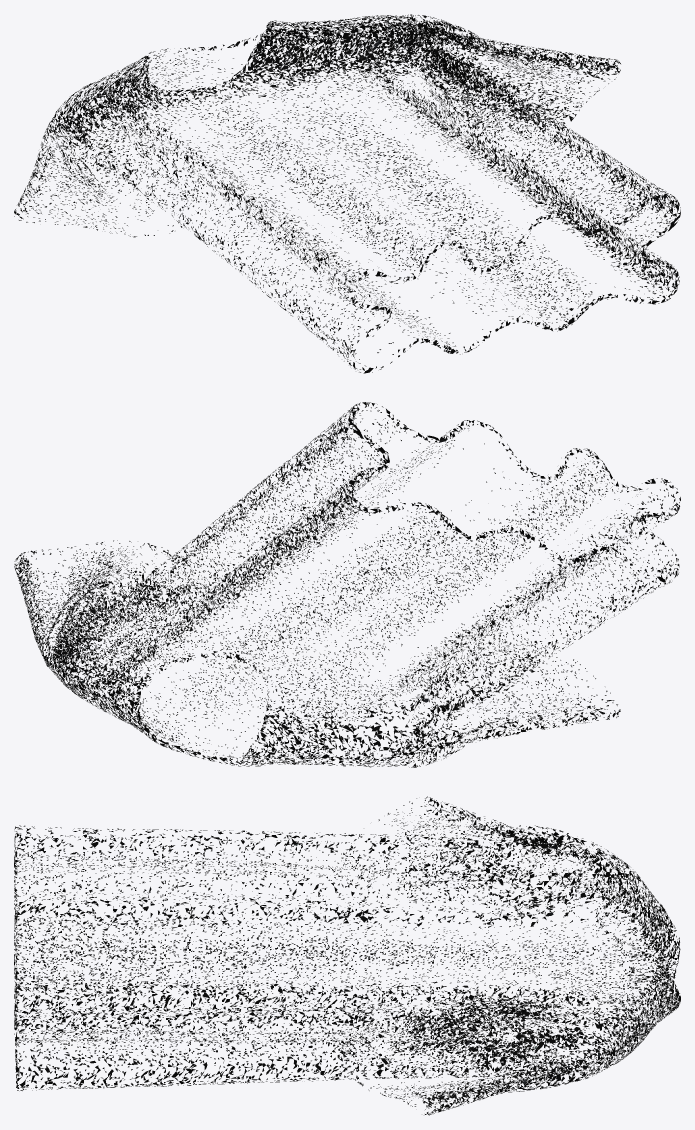
File: textured_garment.glb
The picture shows the model from 3 angles, top to bottom: view 1: azimuth 30°, elevation 25°; view 2: azimuth 150°, elevation 25°; view 3: azimuth 270°, elevation 25°; orthographic projection. The views are drawn at different scales.
Visible parts, largest first — view 1: textured_mesh; view 2: textured_mesh; view 3: textured_mesh.
Boxes of the visible parts, x1=… form: textured_mesh: x1=14, y1=14, x2=680, y2=373; textured_mesh: x1=14, y1=402, x2=680, y2=767; textured_mesh: x1=14, y1=796, x2=680, y2=1115.
Size of the model in its own units: 1.99 by 0.3832 by 1.81.
Materials: 1 (1 with a texture image).
